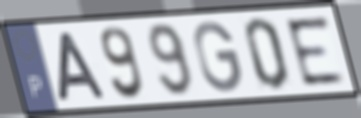0: (243, 15, 293, 93)
9: (146, 21, 197, 99), (100, 24, 145, 101)
A: (56, 30, 110, 104)
E: (281, 13, 348, 89)
G: (191, 19, 244, 95)
